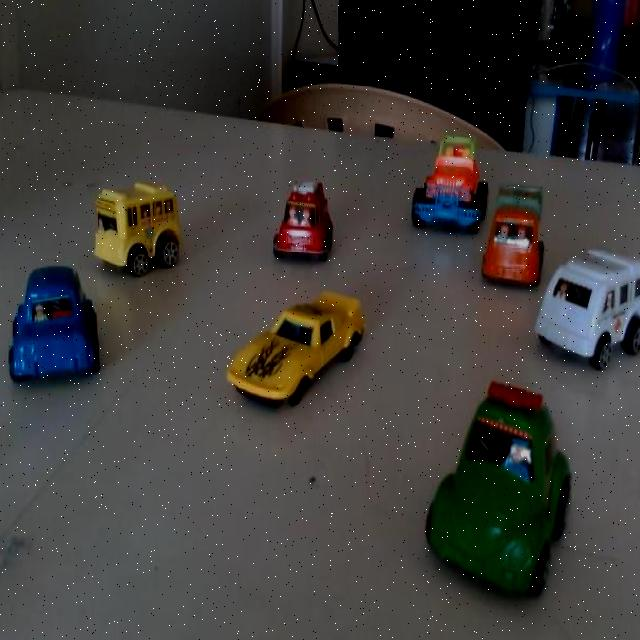car: (428, 385, 594, 582), (222, 277, 375, 418), (539, 236, 640, 381), (3, 262, 102, 391), (101, 179, 191, 283), (402, 124, 485, 230), (482, 171, 552, 294), (273, 168, 347, 273)
